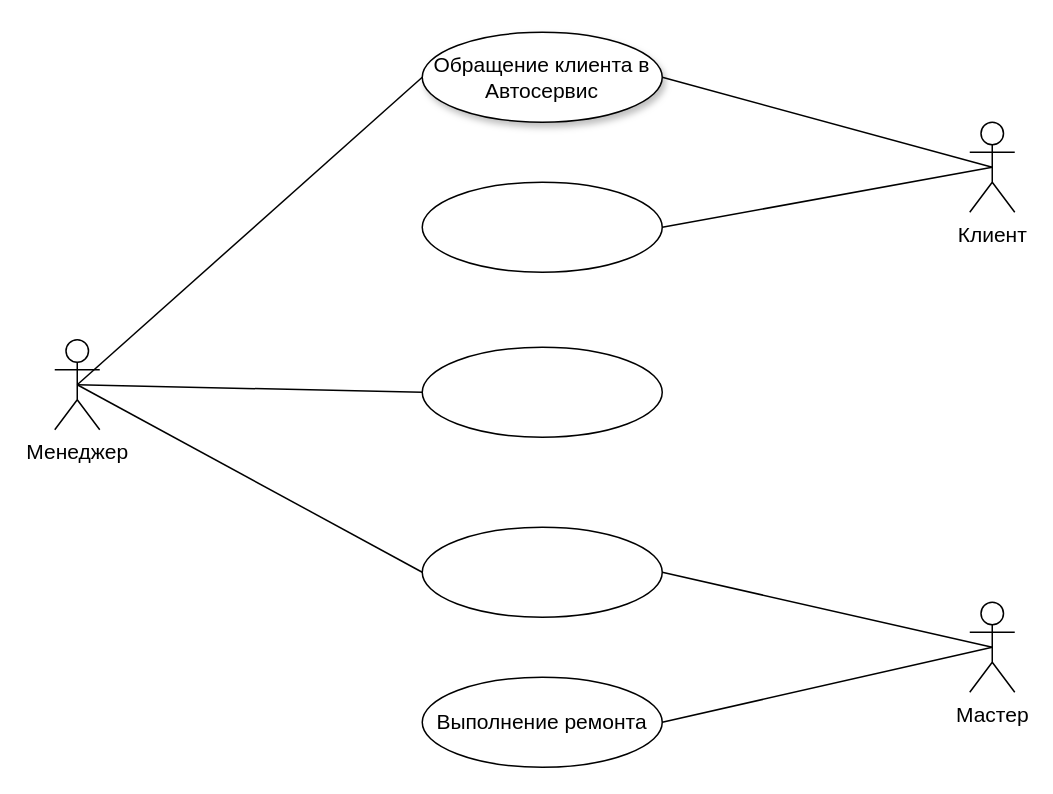
This 1053x794 diagram has some shape labels left out. The shapes that lost their labels are listed below. From the top down, each one's centre as x and y in pixels, then its label:
(x=541, y=226): Оплата ремонта
(x=541, y=391): Отправка запроса в стороннюю организацию
(x=541, y=571): Обработка заявки на ТО
